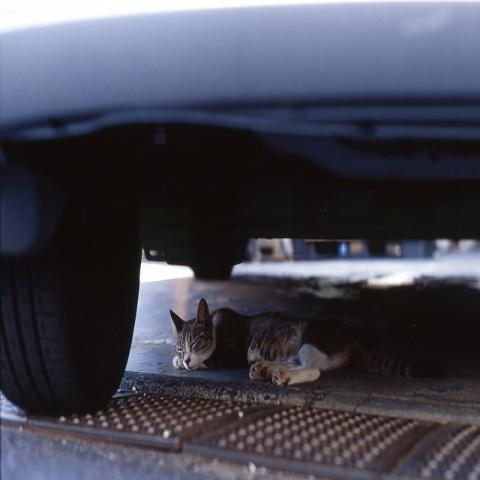car: (0, 4, 479, 422)
